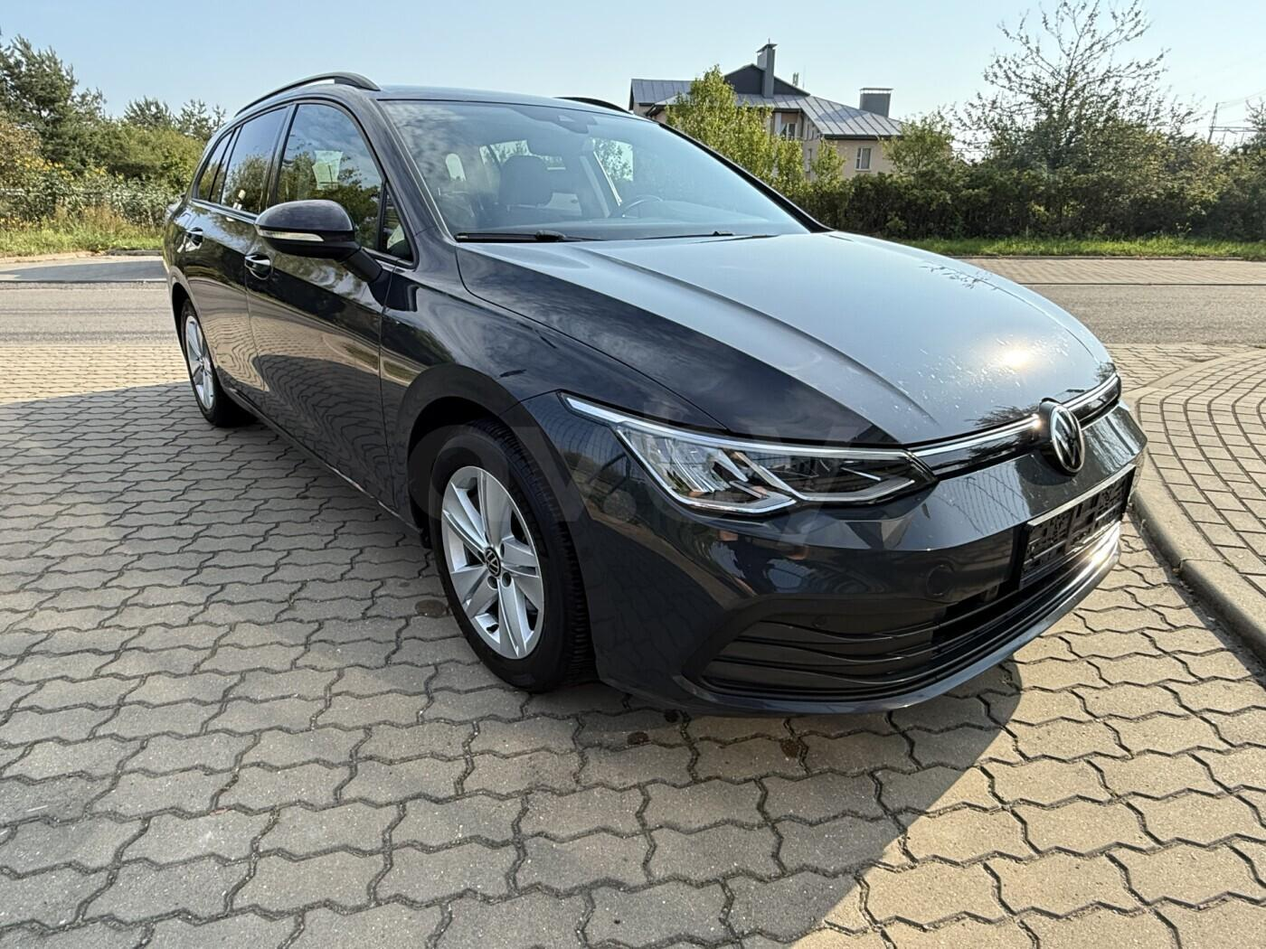Golf_2019: (154, 80, 1145, 722)
